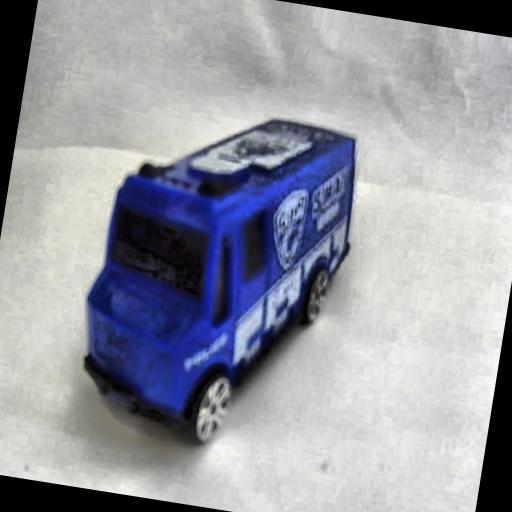police car: (70, 86, 377, 465)
